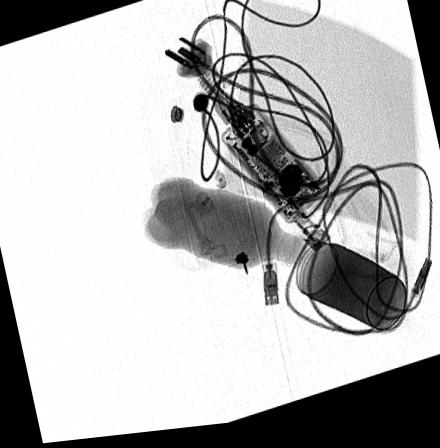Lighter: (255, 178, 331, 263)
